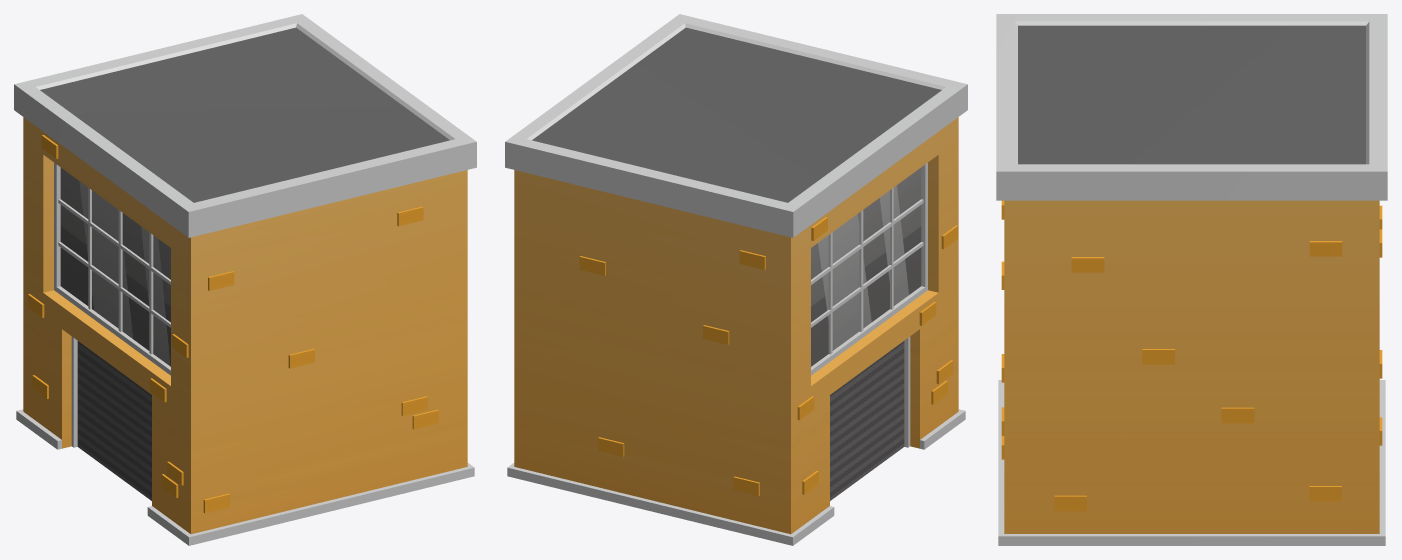
File: Building_10_O.glb
3 views of the same model, side by side, from view 1: azimuth 30°, elevation 25°; view 2: azimuth 150°, elevation 25°; view 3: azimuth 270°, elevation 25° (orthographic). The views are drawn at different scales.
Visible parts, largest first — view 1: Building_10_O; view 2: Building_10_O; view 3: Building_10_O.
Part boxes in pixels (box(x1,y1,x2,y2)): Building_10_O: box(14, 14, 476, 545); Building_10_O: box(505, 14, 967, 545); Building_10_O: box(996, 14, 1387, 545).
Size of the model in its own units: 7.01 by 7.79 by 7.36.
Materials: 3 (3 with a texture image).
